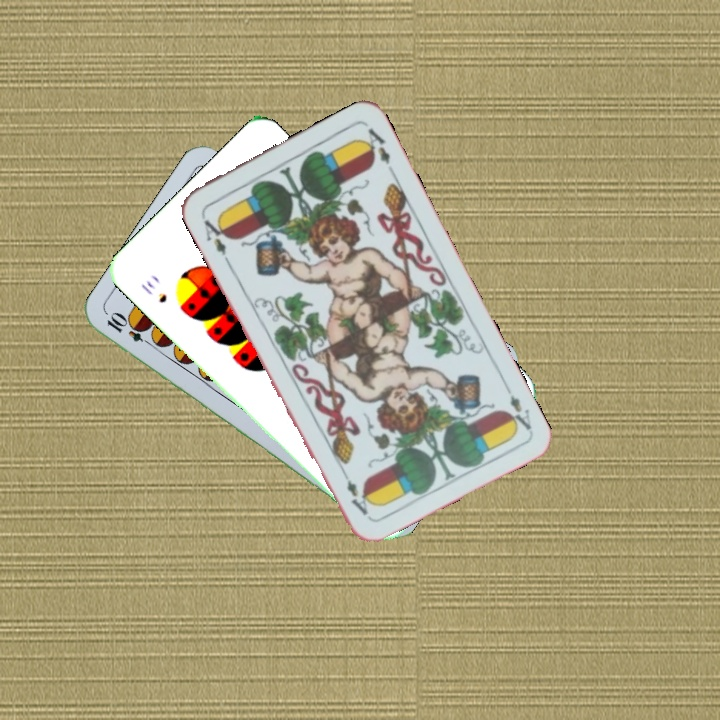E10: (102, 309, 158, 350)
EA: (196, 210, 232, 265), (499, 379, 534, 434)
S10: (136, 276, 170, 306)
